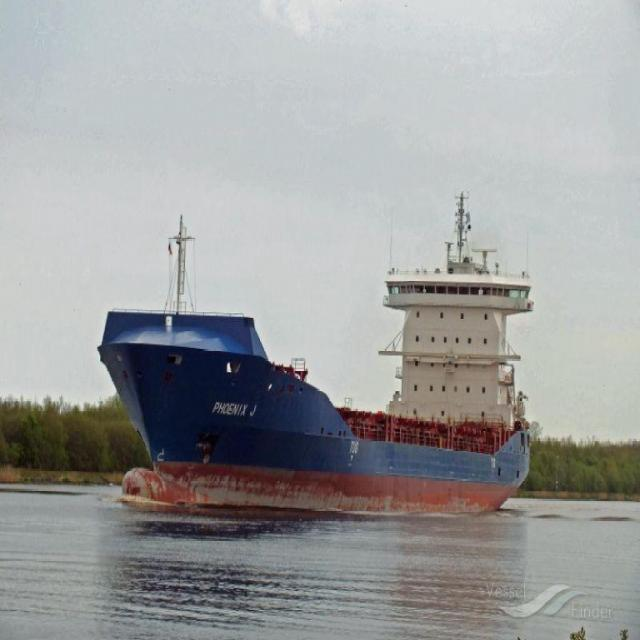Container Ship: (99, 187, 540, 517)
